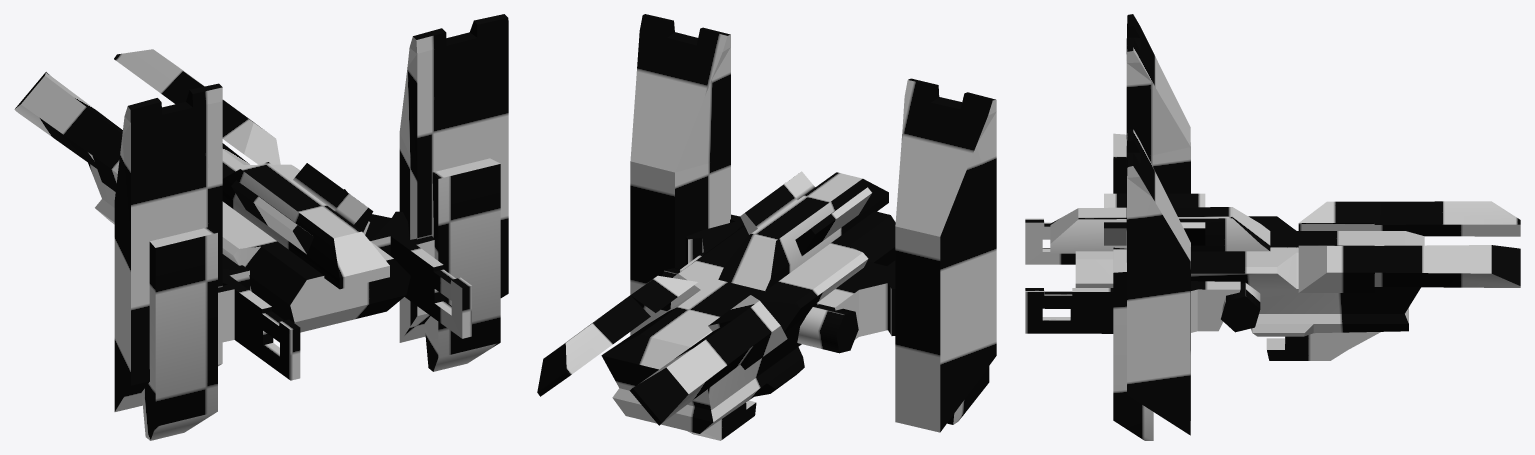
Rendered from drone_g_champion.obj.
3 views of the same model, side by side, from view 1: azimuth 30°, elevation 25°; view 2: azimuth 150°, elevation 25°; view 3: azimuth 270°, elevation 25° (orthographic). The views are drawn at different scales.
Parts seen in each view (by area): view 1: Cylinder001; view 2: Cylinder001; view 3: Cylinder001.
Boxes of the visible parts, <box> form: Cylinder001: <box>14,14,508,440</box>; Cylinder001: <box>537,14,996,440</box>; Cylinder001: <box>1025,14,1520,440</box>.
Bounding box in the file's own units: 28.45 × 25.06 × 39.1.
Materials: 1 (1 with a texture image).
